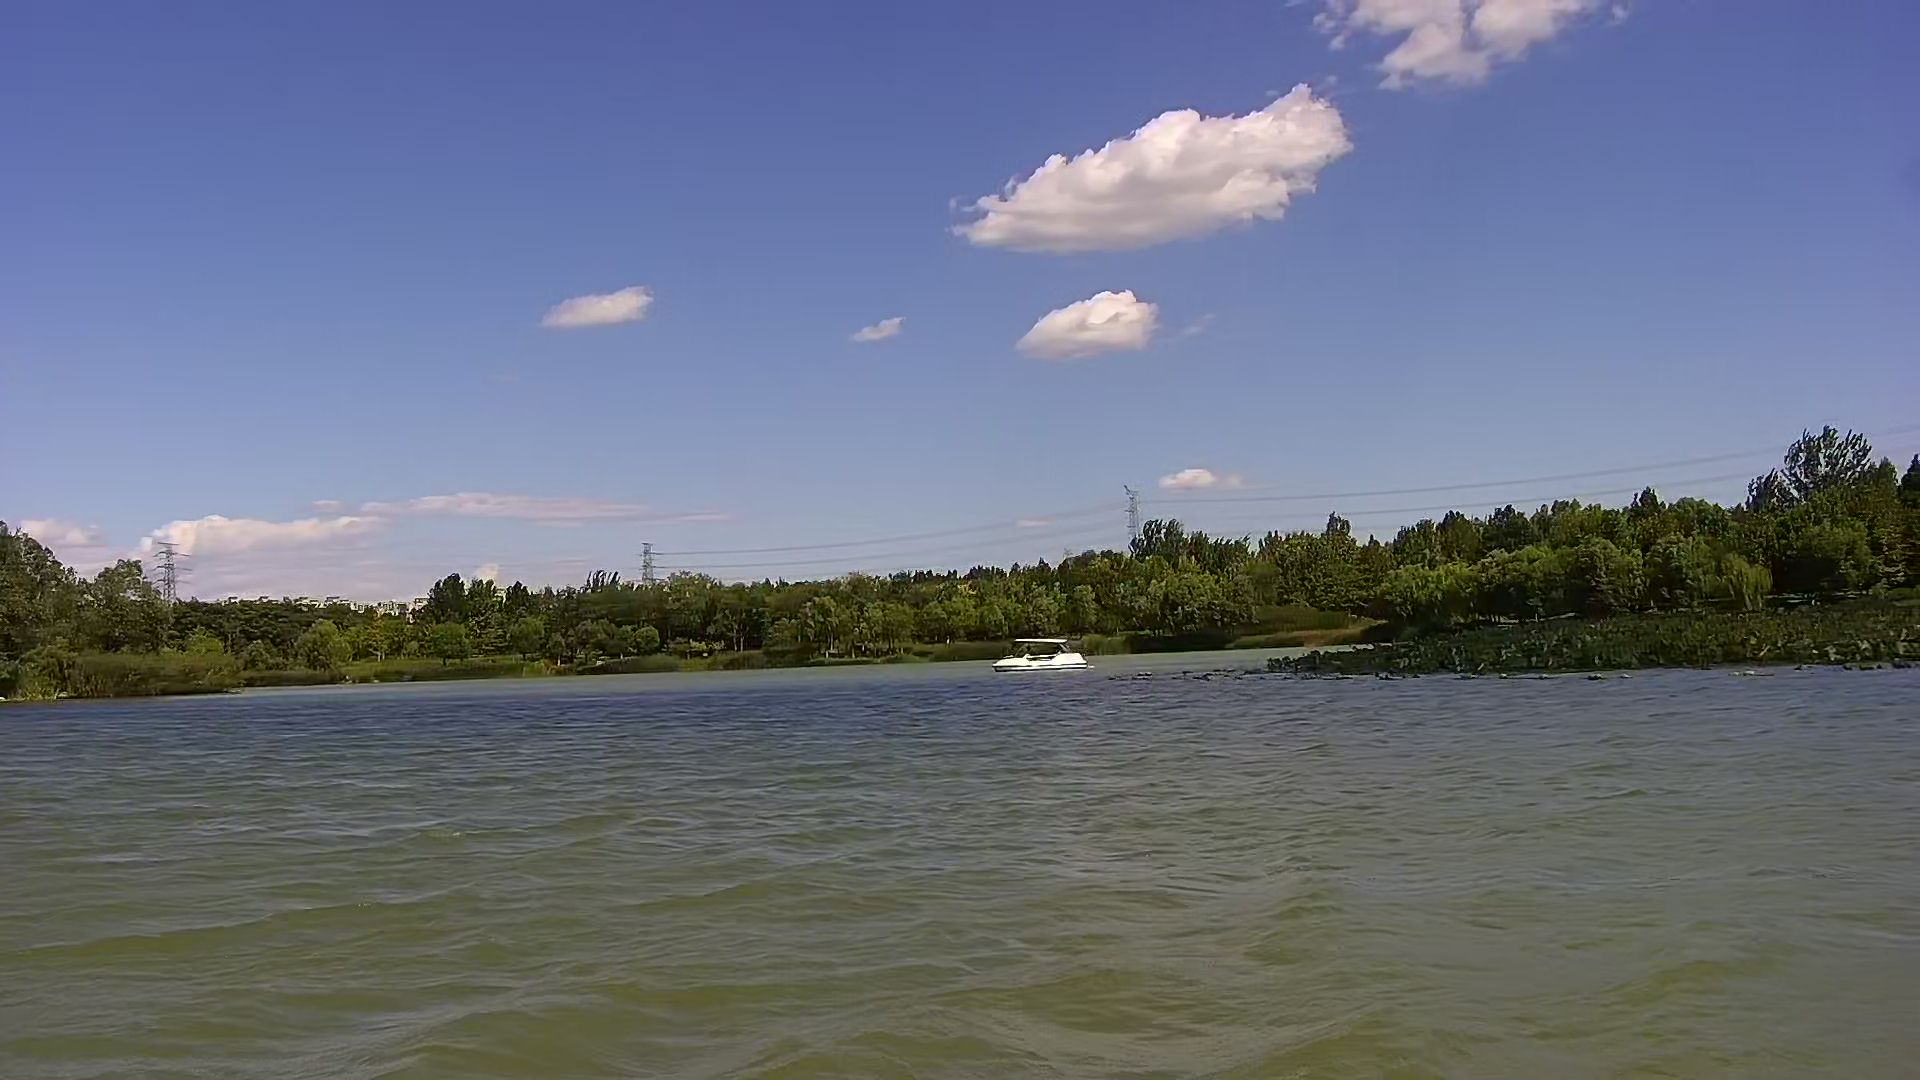boat: (993, 633, 1092, 675)
